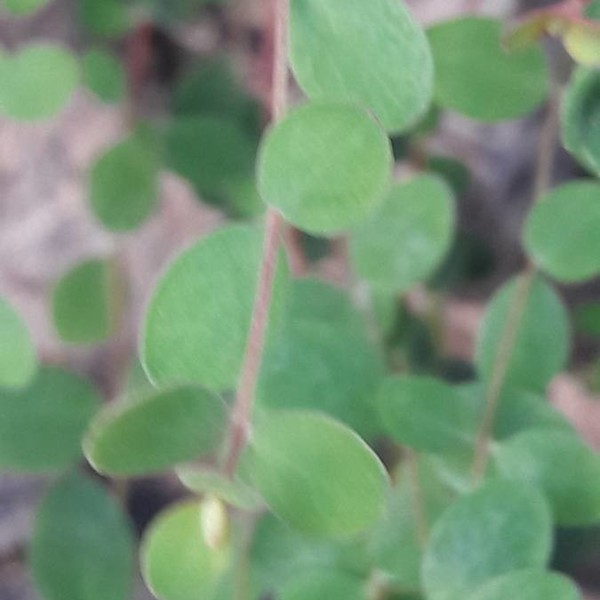obstacle: (116, 50, 556, 572)
